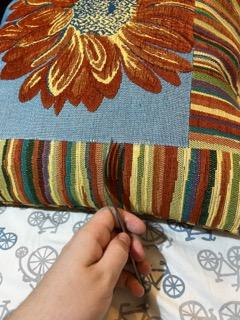fork: (101, 137, 155, 311)
